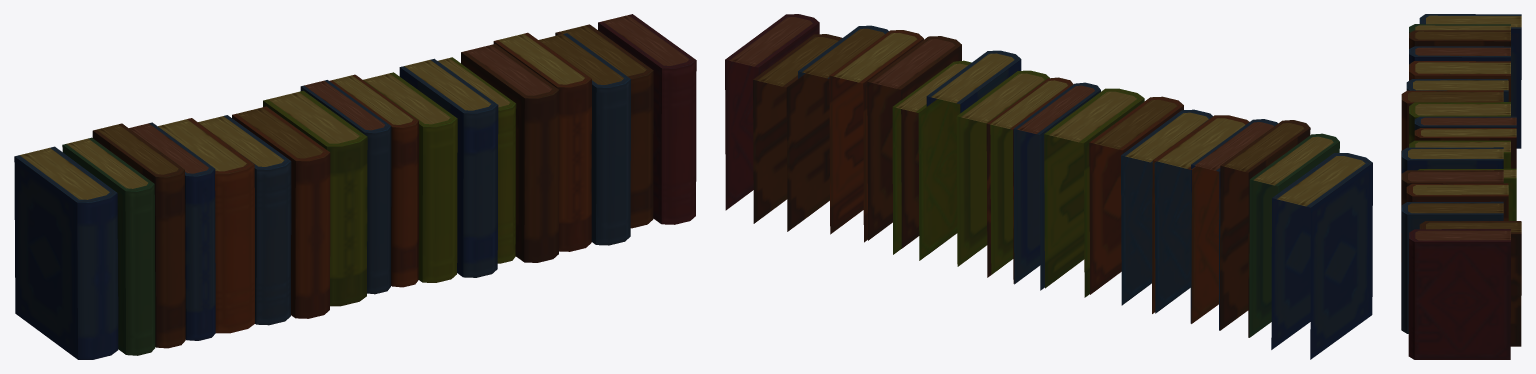
File: book_group_medium_2.glb
The picture shows the model from 3 angles, left to right: view 1: azimuth 30°, elevation 25°; view 2: azimuth 150°, elevation 25°; view 3: azimuth 270°, elevation 25°; orthographic projection. The views are drawn at different scales.
Parts seen in each view (by area): view 1: BookGroup_Medium_2; view 2: BookGroup_Medium_2; view 3: BookGroup_Medium_2.
Part boxes in pixels (left/top/right/bottom): BookGroup_Medium_2: left=14, top=14, right=696, bottom=359; BookGroup_Medium_2: left=725, top=14, right=1372, bottom=359; BookGroup_Medium_2: left=1401, top=14, right=1521, bottom=359.
Bounding box in the file's own units: 1.1 × 0.2949 × 0.2475.
1 material, 1 textured.
